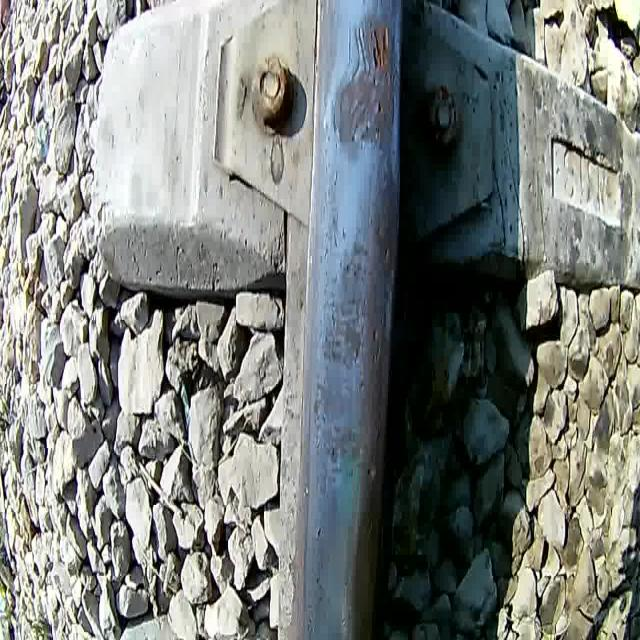Cracks: (347, 20, 372, 87)
Spallings: (370, 18, 393, 80)
Squats: (349, 163, 395, 637), (328, 10, 399, 169), (319, 234, 372, 371), (308, 376, 369, 469)
